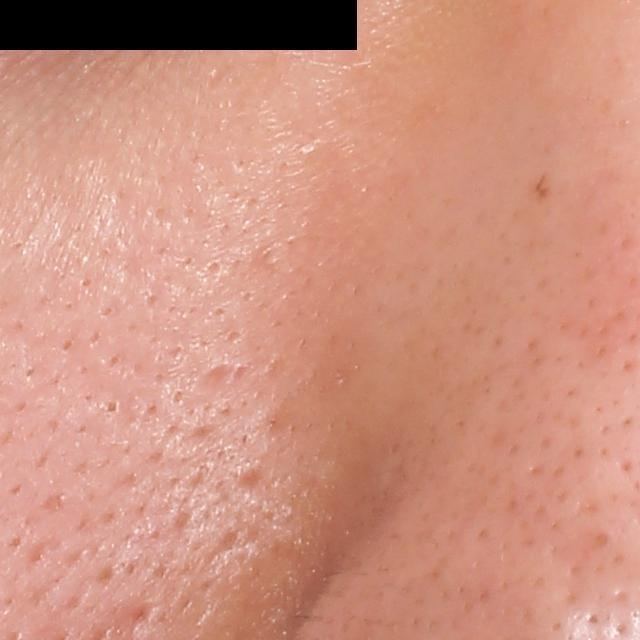comedo: (102, 398, 125, 418)
nevus: (535, 173, 548, 201)
